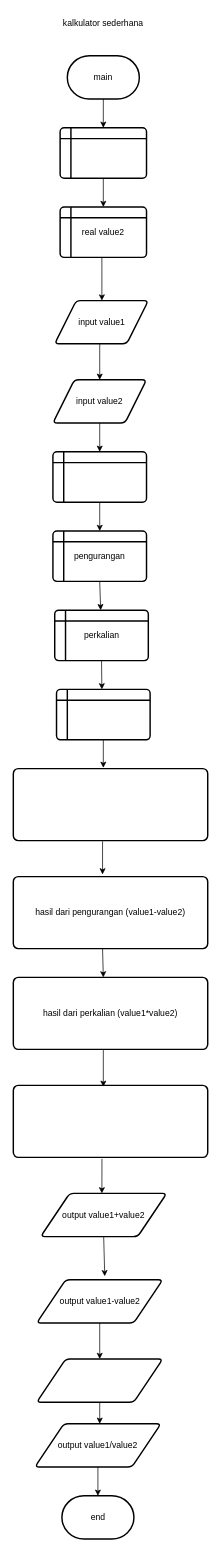
The diagram is 220 pixels wide and 1552 high, and some of its shapes have lost their labels. The shapes that lost their labels are listed below. From the top down, each one's centre as x and y in pixels, then its label:
At point (103, 153): "real value1".
At point (99, 477): "penjumlahan".
At point (102, 714): "pembagian".
At point (110, 804): "hasil dari penjumlahan (value1+value2)".
At point (110, 1121): "hasil dari pembagian (value1/value2)".
At point (99, 1380): "output value1*value2".
